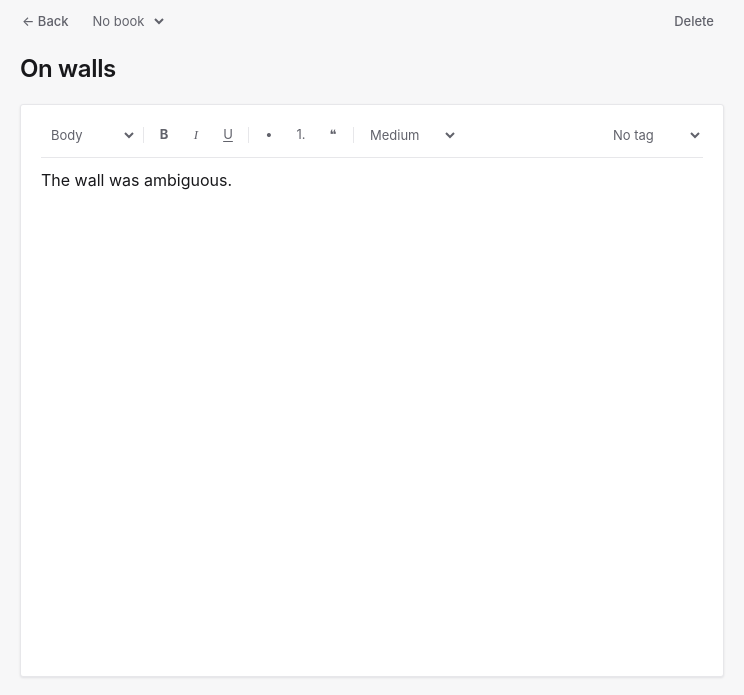
Test: renaming a note from its own page › abandons the draft on Escape
Click the button "On walls".
click(68, 69)  # box [16,54,120,84]
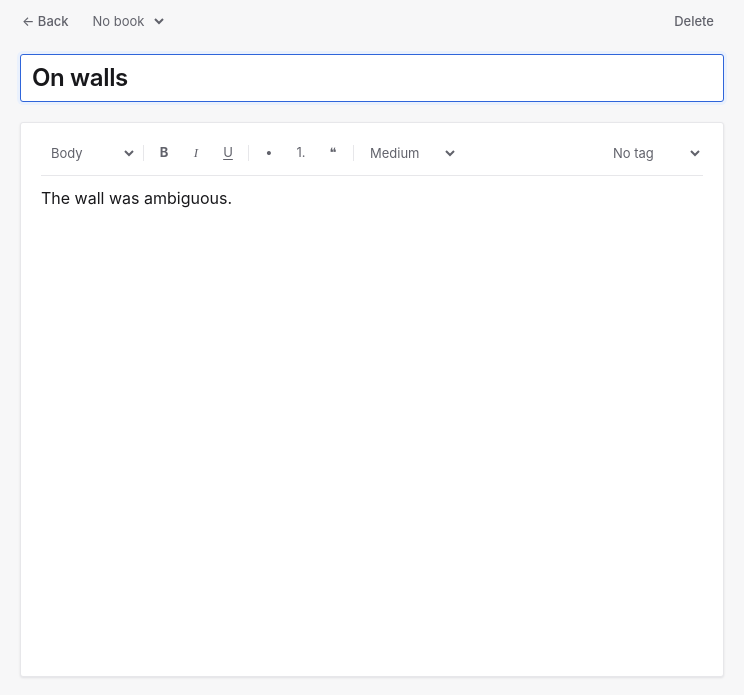
Replace the text in the field named "Note title" with "Never saved" at [372, 78], box [20,54,724,102]
Then press Escape
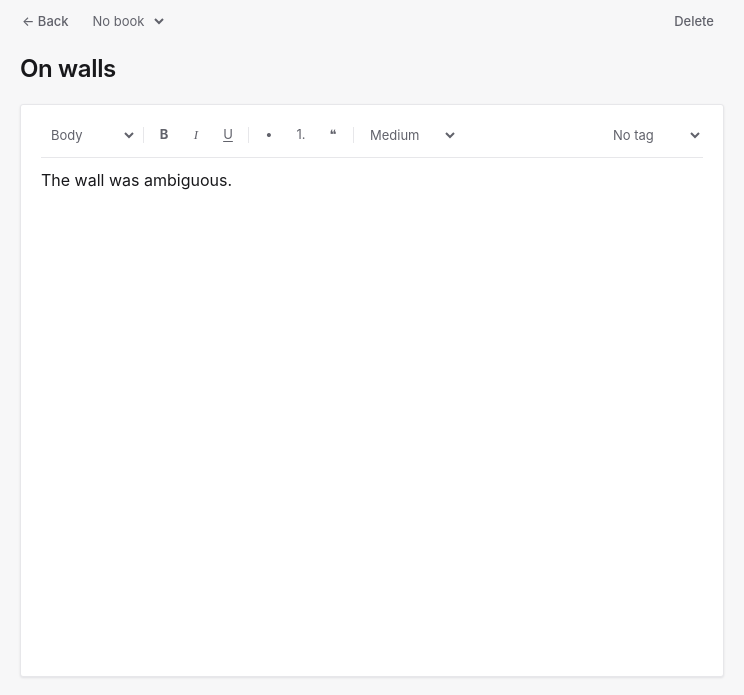
Check: the button "On walls" is shown, box [16,54,120,84]
